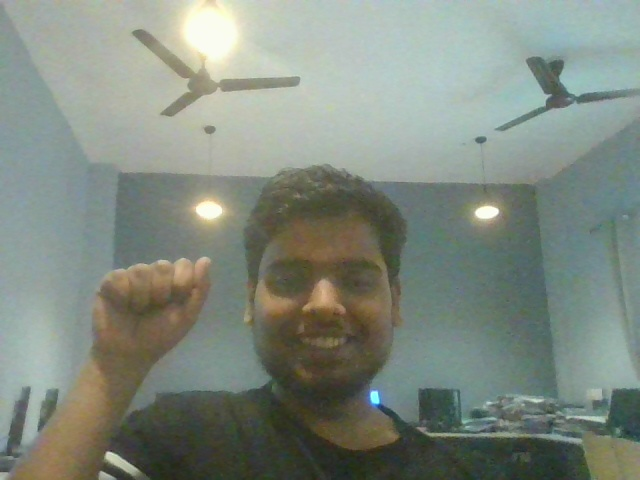A: (63, 242, 226, 361)
